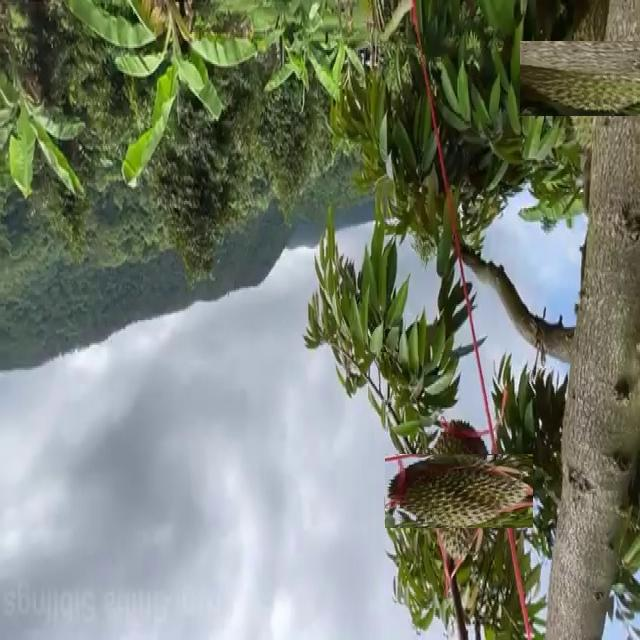durian: (403, 435, 514, 547), (540, 22, 640, 136)
